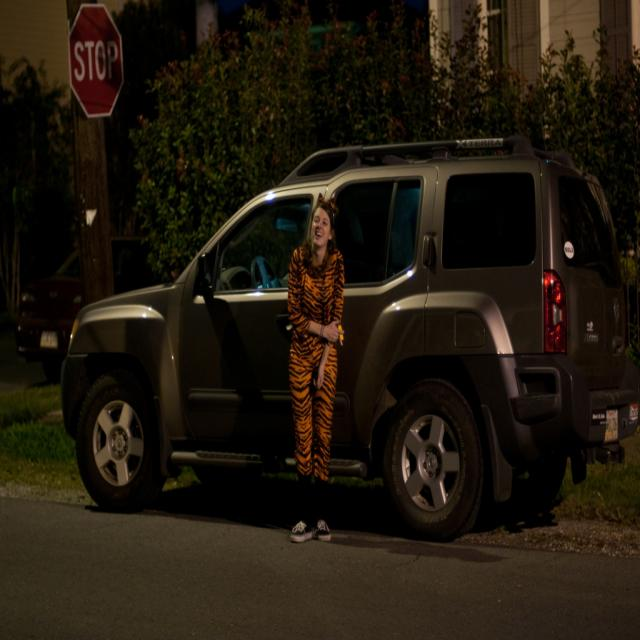Stop-sign: (66, 3, 124, 118)
